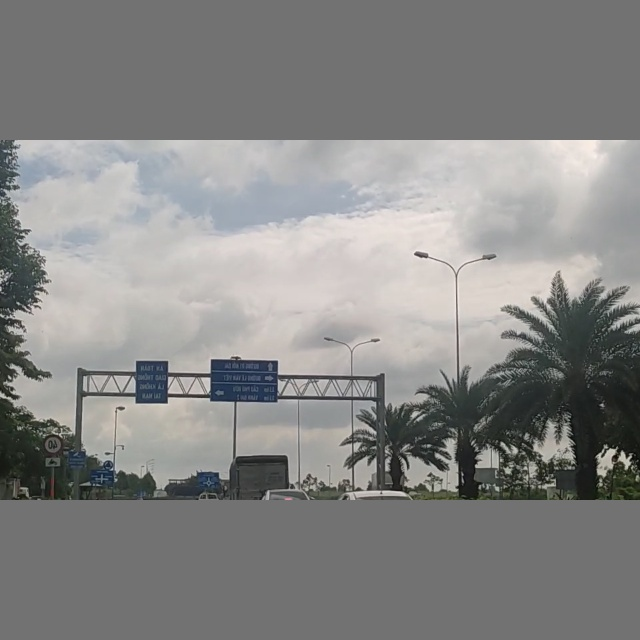P.127*40: (43, 433, 64, 455)
S.505a*Xe may: (44, 455, 63, 468)
